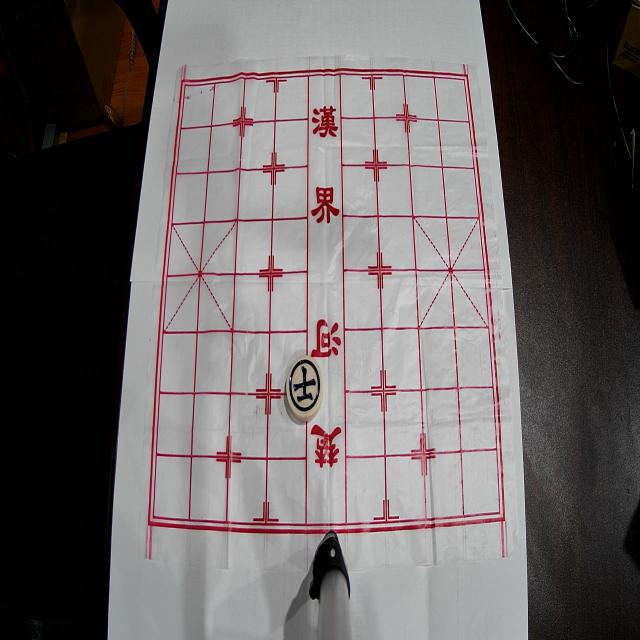black-guard: (286, 355, 324, 421)
